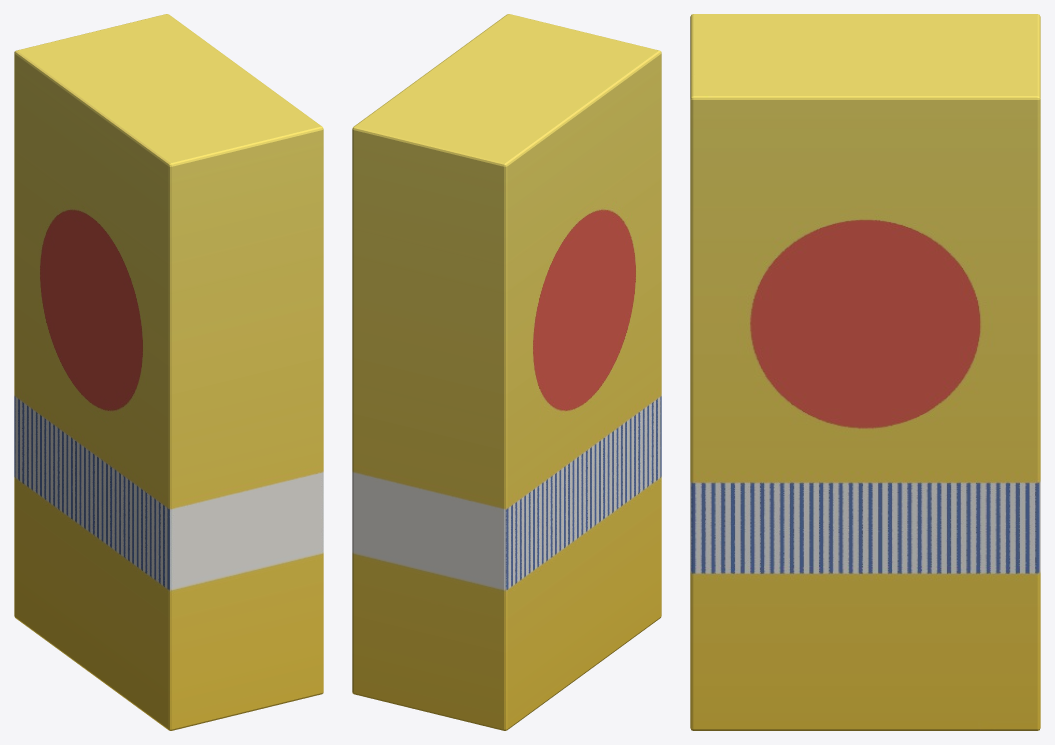
The model's file is cereal_box.glb.
3 renders of one model, left to right at view 1: azimuth 30°, elevation 25°; view 2: azimuth 150°, elevation 25°; view 3: azimuth 270°, elevation 25°, orthographic. The views are drawn at different scales.
Visible parts, largest first — view 1: cereal_box; view 2: cereal_box; view 3: cereal_box.
Part boxes in pixels (bbox=[...]): cereal_box: bbox=[14, 14, 323, 730]; cereal_box: bbox=[352, 14, 661, 730]; cereal_box: bbox=[690, 14, 1040, 730].
Bounding box in the file's own units: 4 × 14 × 7.
Materials: 1 (1 with a texture image).
